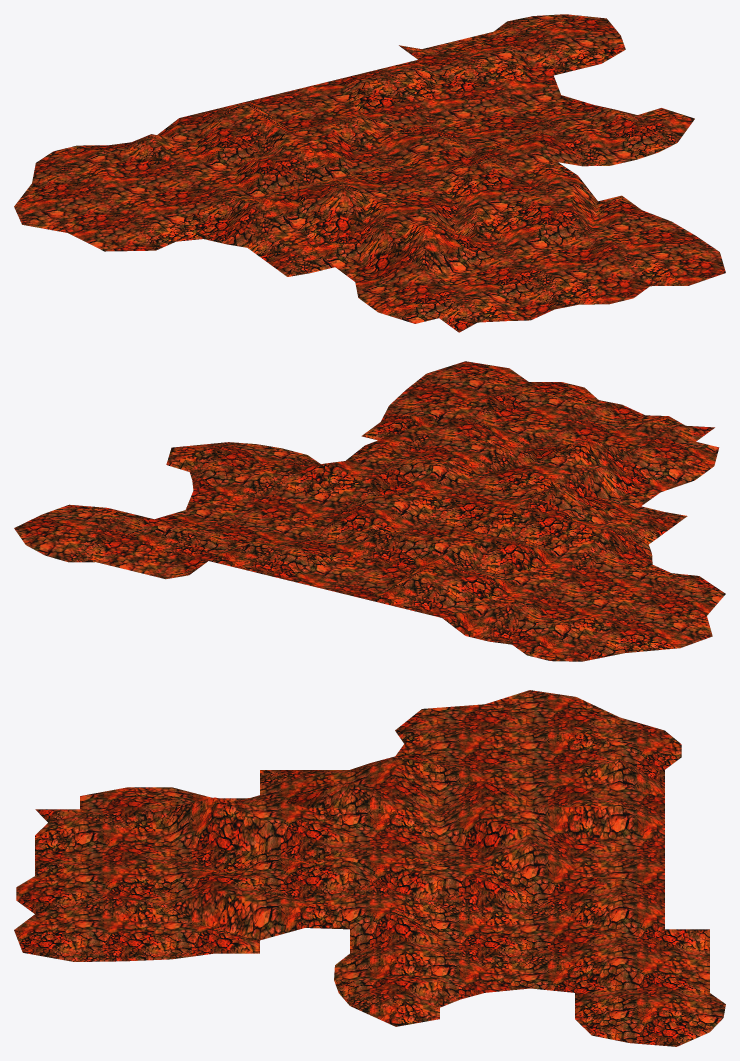
Rendered from FORGE_HOT_AND_COLD_COALPILES_FORGE_COALPILE_HOT.fbx.
3 views of the same model, one above another, from view 1: azimuth 30°, elevation 25°; view 2: azimuth 150°, elevation 25°; view 3: azimuth 270°, elevation 25° (orthographic). The views are drawn at different scales.
Parts seen in each view (by area): view 1: FORGE_HOT_AND_COLD_COALPILES_FORGE_COALPILE_HOT; view 2: FORGE_HOT_AND_COLD_COALPILES_FORGE_COALPILE_HOT; view 3: FORGE_HOT_AND_COLD_COALPILES_FORGE_COALPILE_HOT.
Part boxes in pixels (<box>): FORGE_HOT_AND_COLD_COALPILES_FORGE_COALPILE_HOT: <box>14,14,725,332</box>; FORGE_HOT_AND_COLD_COALPILES_FORGE_COALPILE_HOT: <box>14,361,725,661</box>; FORGE_HOT_AND_COLD_COALPILES_FORGE_COALPILE_HOT: <box>14,690,725,1046</box>.
Bounding box in the file's own units: 150345 × 8945 × 126758.
1 material, 1 textured.
